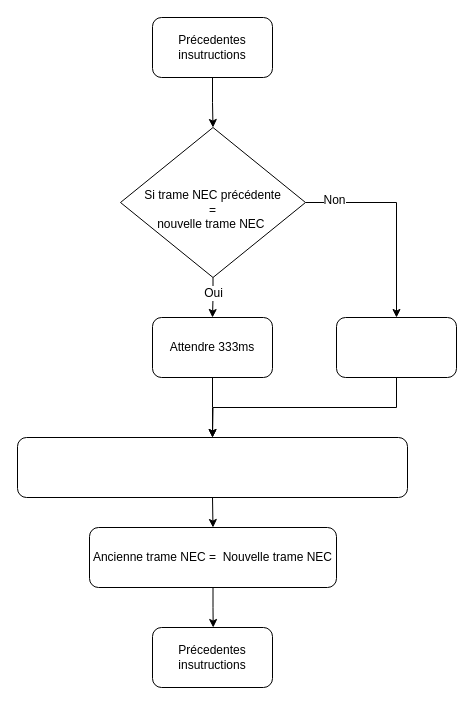
Image size: 474x705. Some labels were removed from this diagram. The shapes that lost their labels are listed below. From the top down, each one's centre as x and y in pixels, then its label:
the point at 396,347: Attendre 108ms
the point at 212,467: GenererTrameNEC(NEC_LED_Pin, AdresseNEC, DonneeNEC)
